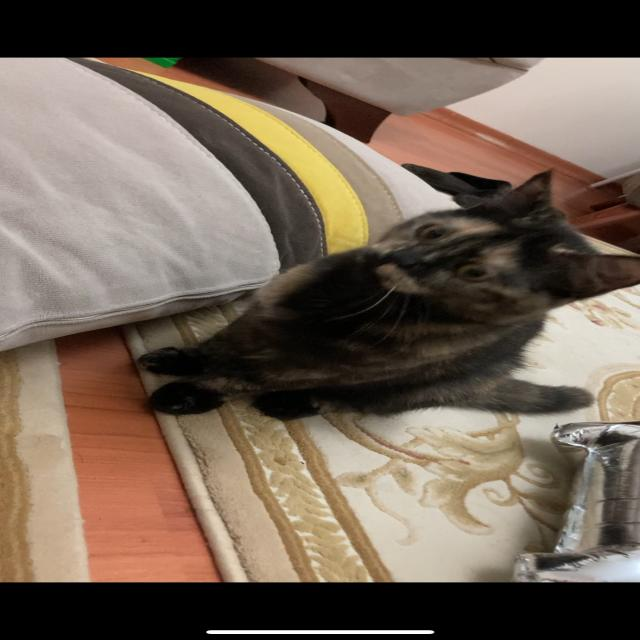authorized: (136, 162, 638, 422)
